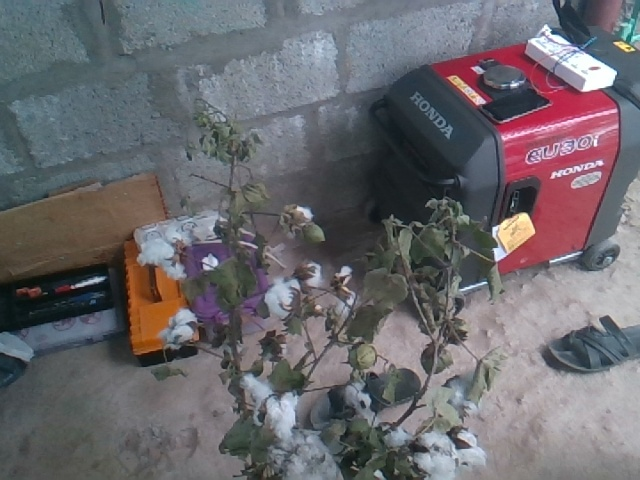cotton: (136, 234, 183, 275), (264, 392, 298, 434), (420, 436, 457, 474), (264, 279, 296, 321), (159, 309, 195, 343)
